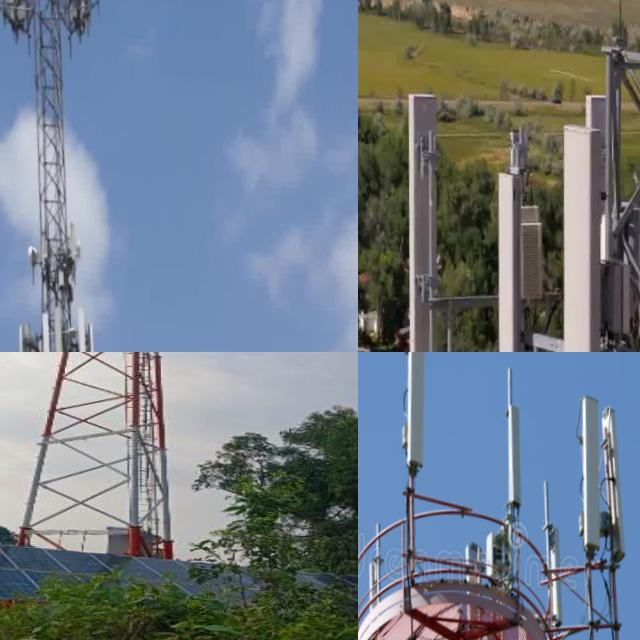GSM Antenna: (546, 122, 613, 352), (390, 84, 442, 352), (577, 88, 626, 351), (487, 166, 526, 352), (575, 384, 608, 559), (399, 352, 431, 473), (498, 389, 526, 504), (49, 299, 63, 352), (34, 309, 50, 352), (74, 301, 87, 352), (12, 318, 27, 352), (85, 322, 97, 352)
Microwave Antenna: (24, 242, 36, 266), (74, 230, 81, 264)
